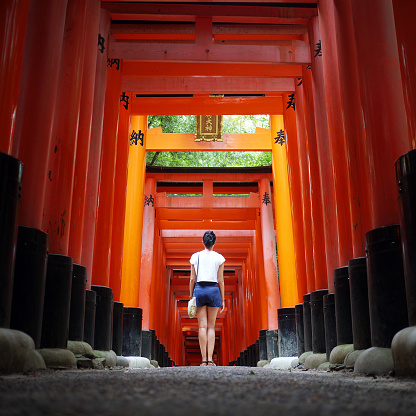em pe: (184, 225, 225, 358)
